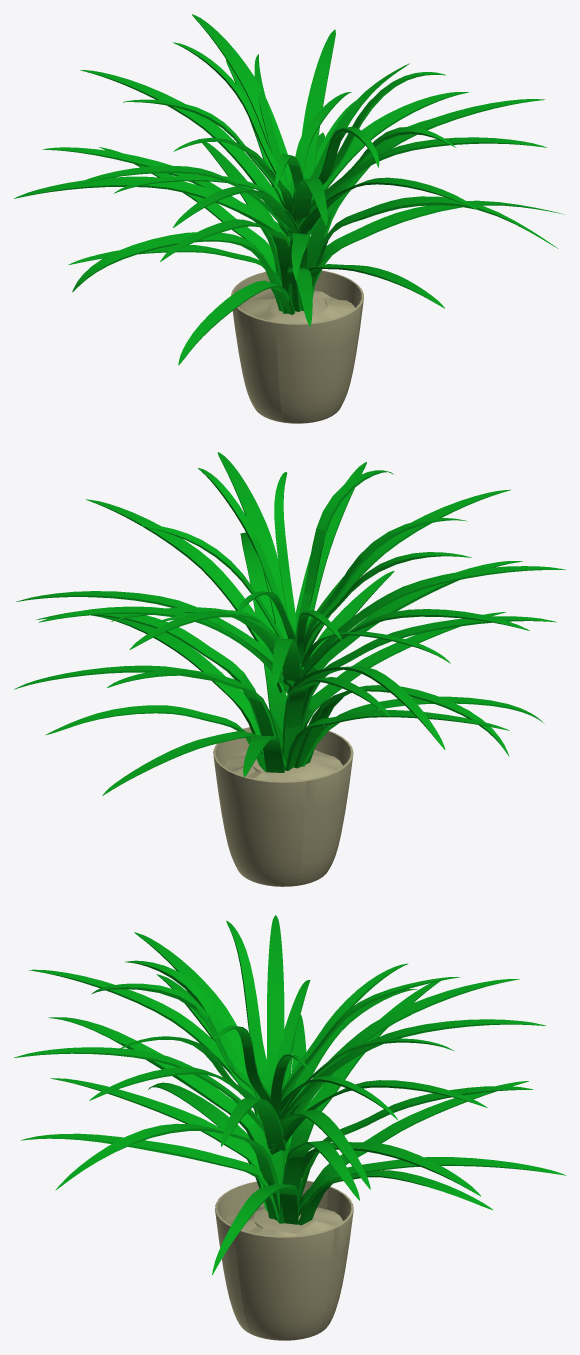
Rendered from Pflanze 2.fbx.
The picture shows the model from 3 angles, top to bottom: view 1: azimuth 30°, elevation 25°; view 2: azimuth 150°, elevation 25°; view 3: azimuth 270°, elevation 25°; orthographic projection. The views are drawn at different scales.
Visible parts, largest first — view 1: null_2; view 2: null_2; view 3: null_2.
Part boxes in pixels (left/top/right/bottom): null_2: left=14, top=14, right=563, bottom=423; null_2: left=14, top=452, right=565, bottom=886; null_2: left=14, top=915, right=565, bottom=1340.
Size of the model in its own units: 7.54 by 5.12 by 7.46.
